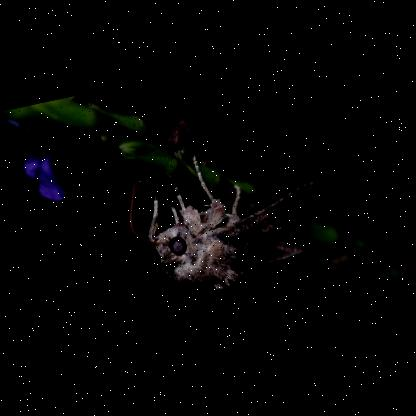Fall Armyworm Moth: (114, 127, 338, 312)
